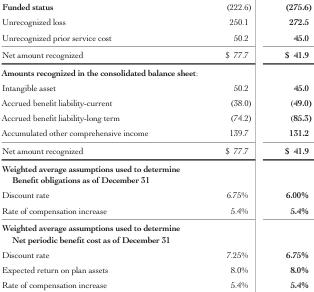table: (0, 1, 311, 289)
table column: (0, 1, 185, 289), (185, 1, 267, 289), (267, 1, 311, 289)
table column header: (0, 1, 311, 13)
table projected row header: (0, 218, 311, 246), (0, 159, 311, 186), (0, 63, 311, 79)
table row: (0, 218, 311, 246), (0, 159, 311, 186), (0, 45, 311, 63), (0, 141, 311, 159), (0, 124, 311, 141), (0, 13, 311, 29), (0, 29, 311, 45), (0, 63, 311, 79), (0, 186, 311, 202), (0, 202, 311, 218), (0, 79, 311, 94), (0, 94, 311, 109), (0, 109, 311, 124), (0, 246, 311, 261), (0, 261, 311, 276), (0, 276, 311, 289), (0, 1, 311, 13)
